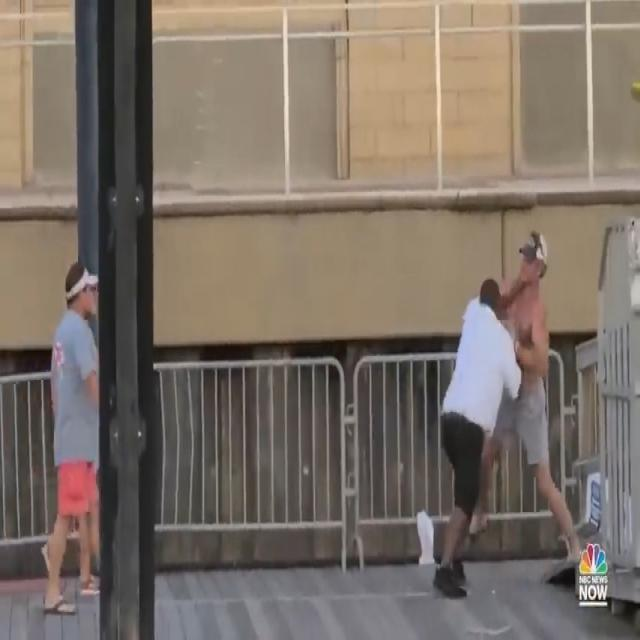fight: (420, 220, 584, 614)
